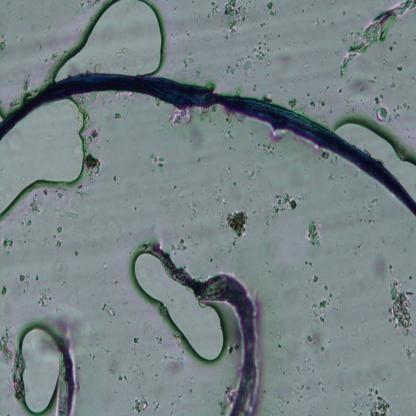Air bubble: (130, 244, 228, 364), (49, 1, 166, 78), (333, 118, 416, 198), (15, 322, 62, 412)
Background material: (0, 97, 88, 227), (387, 271, 416, 337), (338, 69, 378, 113), (59, 306, 92, 347), (230, 41, 267, 74), (221, 0, 248, 40), (218, 207, 248, 238), (365, 382, 392, 416), (309, 292, 334, 324), (270, 189, 299, 216), (304, 324, 326, 358), (289, 378, 308, 415), (267, 45, 293, 72), (368, 254, 396, 279), (353, 202, 380, 227), (0, 320, 15, 364), (373, 94, 391, 126), (12, 353, 24, 400), (255, 141, 281, 161), (307, 218, 323, 250), (84, 148, 102, 176), (389, 98, 410, 122), (191, 120, 209, 147), (166, 353, 186, 377), (8, 128, 28, 152), (55, 257, 69, 289), (172, 107, 194, 127), (315, 372, 332, 397), (264, 328, 283, 350), (272, 392, 290, 415), (384, 39, 400, 64), (174, 233, 194, 253), (36, 290, 54, 311), (150, 152, 167, 174), (129, 367, 146, 388), (20, 68, 34, 93), (333, 287, 346, 312), (180, 48, 194, 70), (170, 18, 184, 40), (105, 218, 122, 236), (226, 238, 242, 257), (132, 394, 148, 413), (107, 355, 121, 376), (247, 165, 264, 181), (78, 0, 98, 13), (89, 56, 105, 72), (206, 0, 219, 19), (85, 128, 100, 144), (308, 95, 324, 110), (54, 184, 69, 200), (101, 301, 116, 317), (399, 343, 415, 358), (27, 197, 40, 215), (105, 272, 120, 287), (41, 48, 56, 62), (189, 201, 199, 222), (172, 183, 185, 199), (18, 273, 31, 289), (258, 18, 275, 30), (215, 188, 227, 205), (2, 238, 13, 256), (100, 338, 112, 354), (113, 46, 126, 60), (300, 358, 315, 370), (0, 34, 10, 52), (252, 3, 264, 18), (266, 2, 277, 18), (150, 396, 160, 413), (335, 382, 347, 395), (67, 289, 77, 304), (301, 58, 311, 73), (261, 30, 276, 40), (351, 327, 363, 339), (288, 96, 298, 110), (293, 364, 303, 378), (222, 112, 232, 126), (131, 336, 141, 350), (223, 128, 235, 139), (160, 197, 171, 209), (262, 219, 272, 232), (193, 11, 202, 25), (389, 73, 397, 88), (194, 150, 202, 165), (112, 173, 120, 187), (16, 33, 26, 44), (39, 237, 49, 248), (154, 334, 164, 345), (314, 17, 326, 26), (322, 150, 331, 162), (88, 347, 95, 362), (184, 27, 192, 40), (352, 245, 362, 255), (70, 248, 80, 258), (226, 144, 238, 152), (0, 285, 8, 297), (192, 71, 202, 80), (312, 275, 321, 284), (325, 172, 335, 180), (114, 111, 122, 120), (56, 238, 62, 250), (323, 284, 330, 294), (118, 375, 128, 382), (302, 260, 313, 266), (252, 82, 258, 93), (230, 179, 238, 187), (335, 86, 343, 94), (324, 85, 332, 93), (22, 235, 30, 243), (396, 63, 403, 72), (50, 230, 57, 239), (26, 218, 33, 227), (335, 356, 340, 368), (56, 226, 63, 234), (20, 174, 26, 182), (34, 274, 40, 282), (207, 258, 216, 263), (350, 268, 356, 275), (338, 323, 344, 330), (294, 6, 298, 14), (277, 32, 281, 40), (18, 14, 22, 22), (367, 338, 372, 344), (127, 231, 132, 237), (132, 207, 137, 212), (408, 275, 413, 280), (226, 67, 230, 73), (328, 0, 335, 3), (332, 22, 335, 25)
Cellulose filter fibre: (150, 244, 262, 415), (340, 1, 416, 74), (56, 348, 74, 415)
Cotton: (0, 71, 416, 218)
